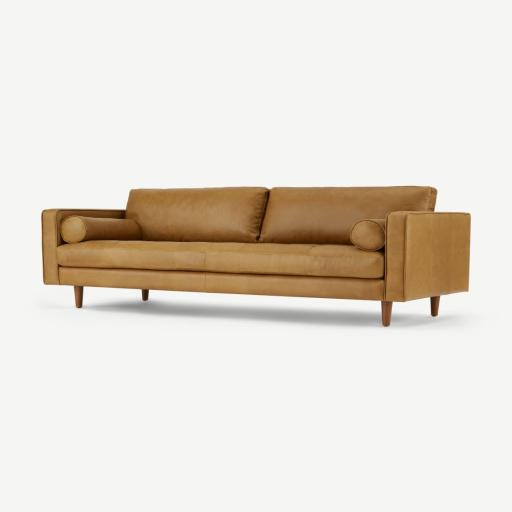back_cushion: (127, 187, 412, 244)
base: (60, 267, 383, 300)
left_arm: (385, 212, 470, 315)
legs: (382, 302, 392, 326), (75, 286, 83, 308), (431, 297, 439, 315), (142, 289, 148, 301)
right_arm: (42, 209, 124, 284)
seat_cushion: (57, 240, 383, 278)
two-seater: (0, 0, 511, 512)
